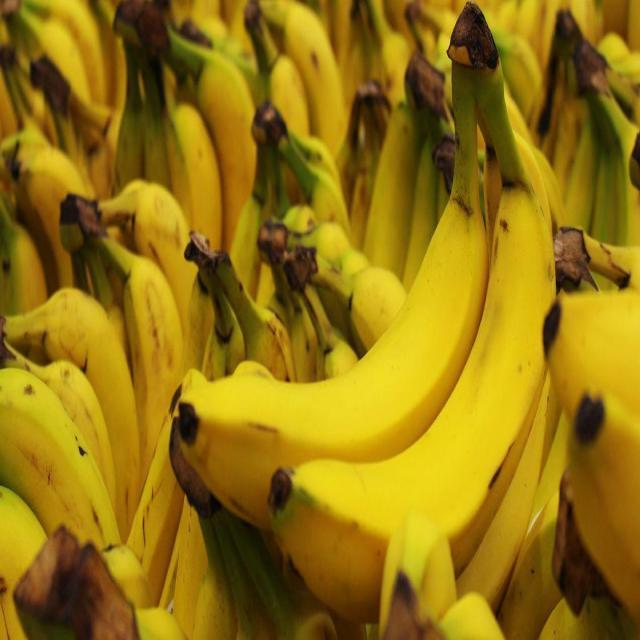banana: (183, 9, 556, 608), (116, 7, 258, 243), (70, 176, 189, 454), (3, 283, 128, 535), (546, 279, 640, 604), (367, 52, 452, 278), (0, 1, 109, 162), (294, 239, 404, 378), (248, 4, 348, 152), (190, 238, 294, 380)
